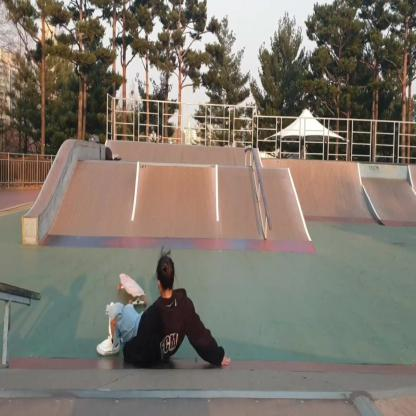Fall_Down: (94, 251, 235, 373)
